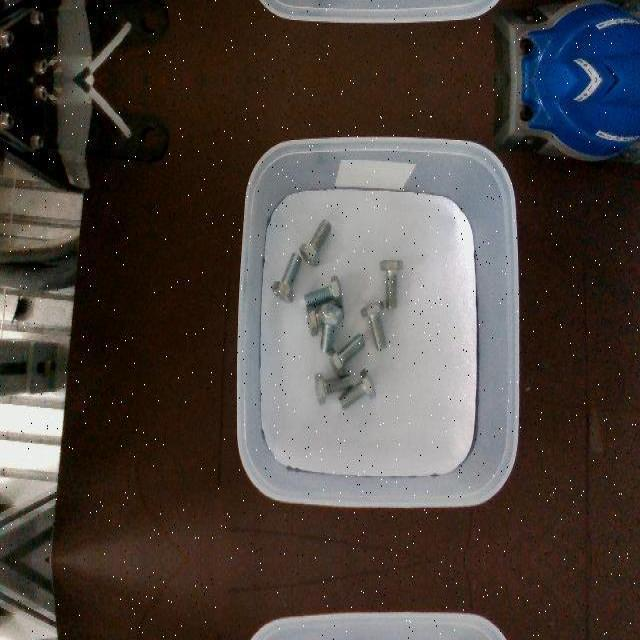screw: (327, 334, 365, 378), (338, 367, 376, 409), (299, 218, 332, 266), (271, 252, 301, 302), (361, 300, 387, 352), (314, 372, 353, 404), (317, 303, 341, 353), (380, 259, 403, 309)
